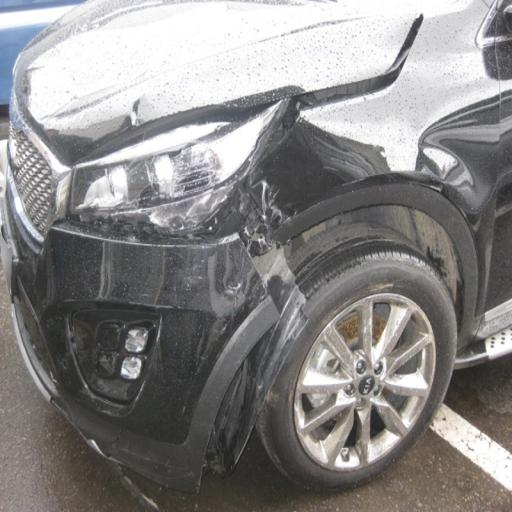broken: (187, 157, 336, 391), (76, 118, 78, 123)
scratch: (49, 229, 227, 459)
